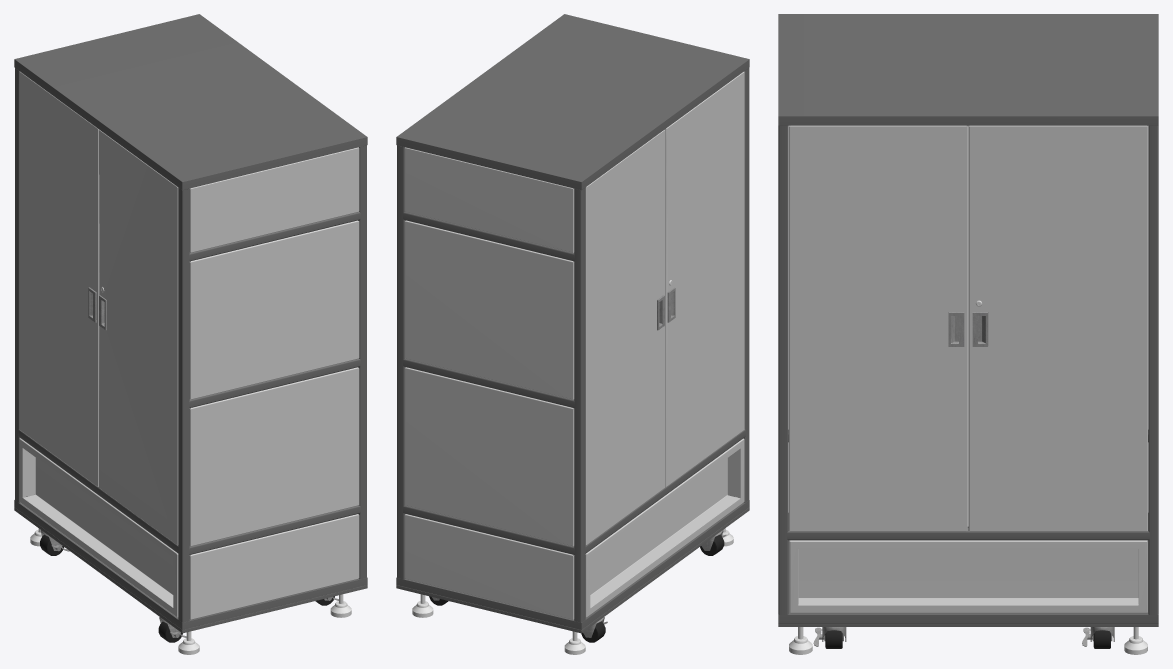
3 renders of one model, left to right at view 1: azimuth 30°, elevation 25°; view 2: azimuth 150°, elevation 25°; view 3: azimuth 270°, elevation 25°, orthographic. The views are drawn at different scales.
Parts seen in each view (by area): view 1: 08_panel, 08_frame, 08_sus, 08_leg, 08_tire; view 2: 08_panel, 08_frame, 08_sus, 08_leg, 08_tire; view 3: 08_panel, 08_frame, 08_sus, 08_leg, 08_tire.
Part boxes in pixels (box(x1,y1,x2,y2)): 08_panel: box(19, 71, 359, 619); 08_frame: box(14, 14, 367, 633); 08_sus: box(40, 287, 338, 637); 08_leg: box(30, 528, 351, 654); 08_tire: box(40, 534, 334, 642); 08_panel: box(404, 71, 744, 619); 08_frame: box(396, 14, 749, 633); 08_sus: box(432, 287, 726, 637); 08_leg: box(412, 528, 733, 654); 08_tire: box(429, 534, 724, 642); 08_panel: box(789, 125, 1147, 613); 08_frame: box(778, 14, 1158, 626); 08_sus: box(813, 312, 1114, 646); 08_leg: box(789, 627, 1147, 654); 08_tire: box(825, 630, 1110, 648).
Bounding box in the file's own units: 0.71 × 1.73 × 1.1.
Materials: 5 (1 with a texture image).
